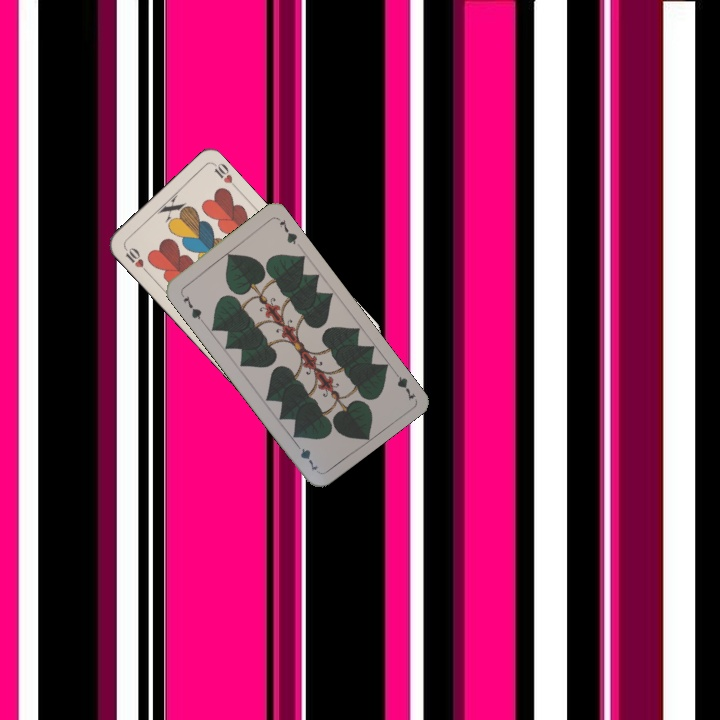G7: (388, 365, 418, 403), (179, 292, 206, 324)
H10: (120, 243, 152, 276)
